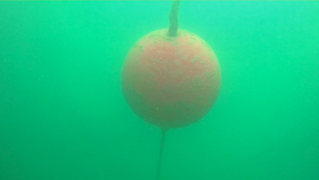buoy: (120, 28, 222, 129)
